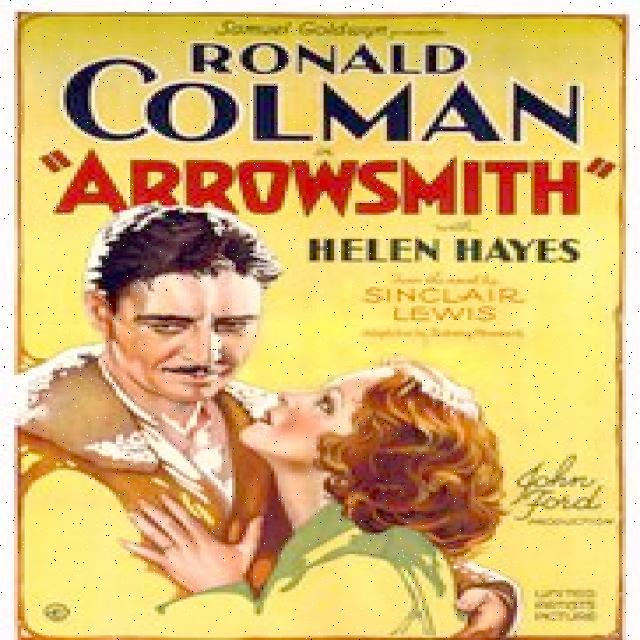movie-judul: (22, 142, 622, 225)
picture: (21, 214, 532, 640)
